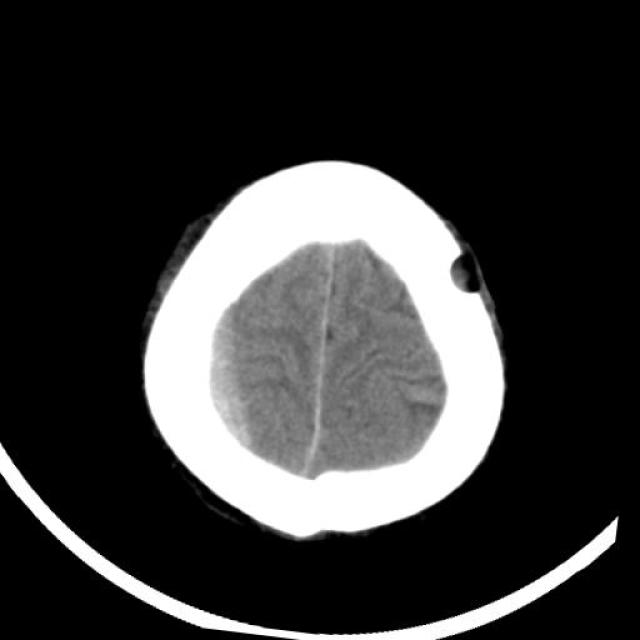Subdural: (176, 297, 283, 461)
